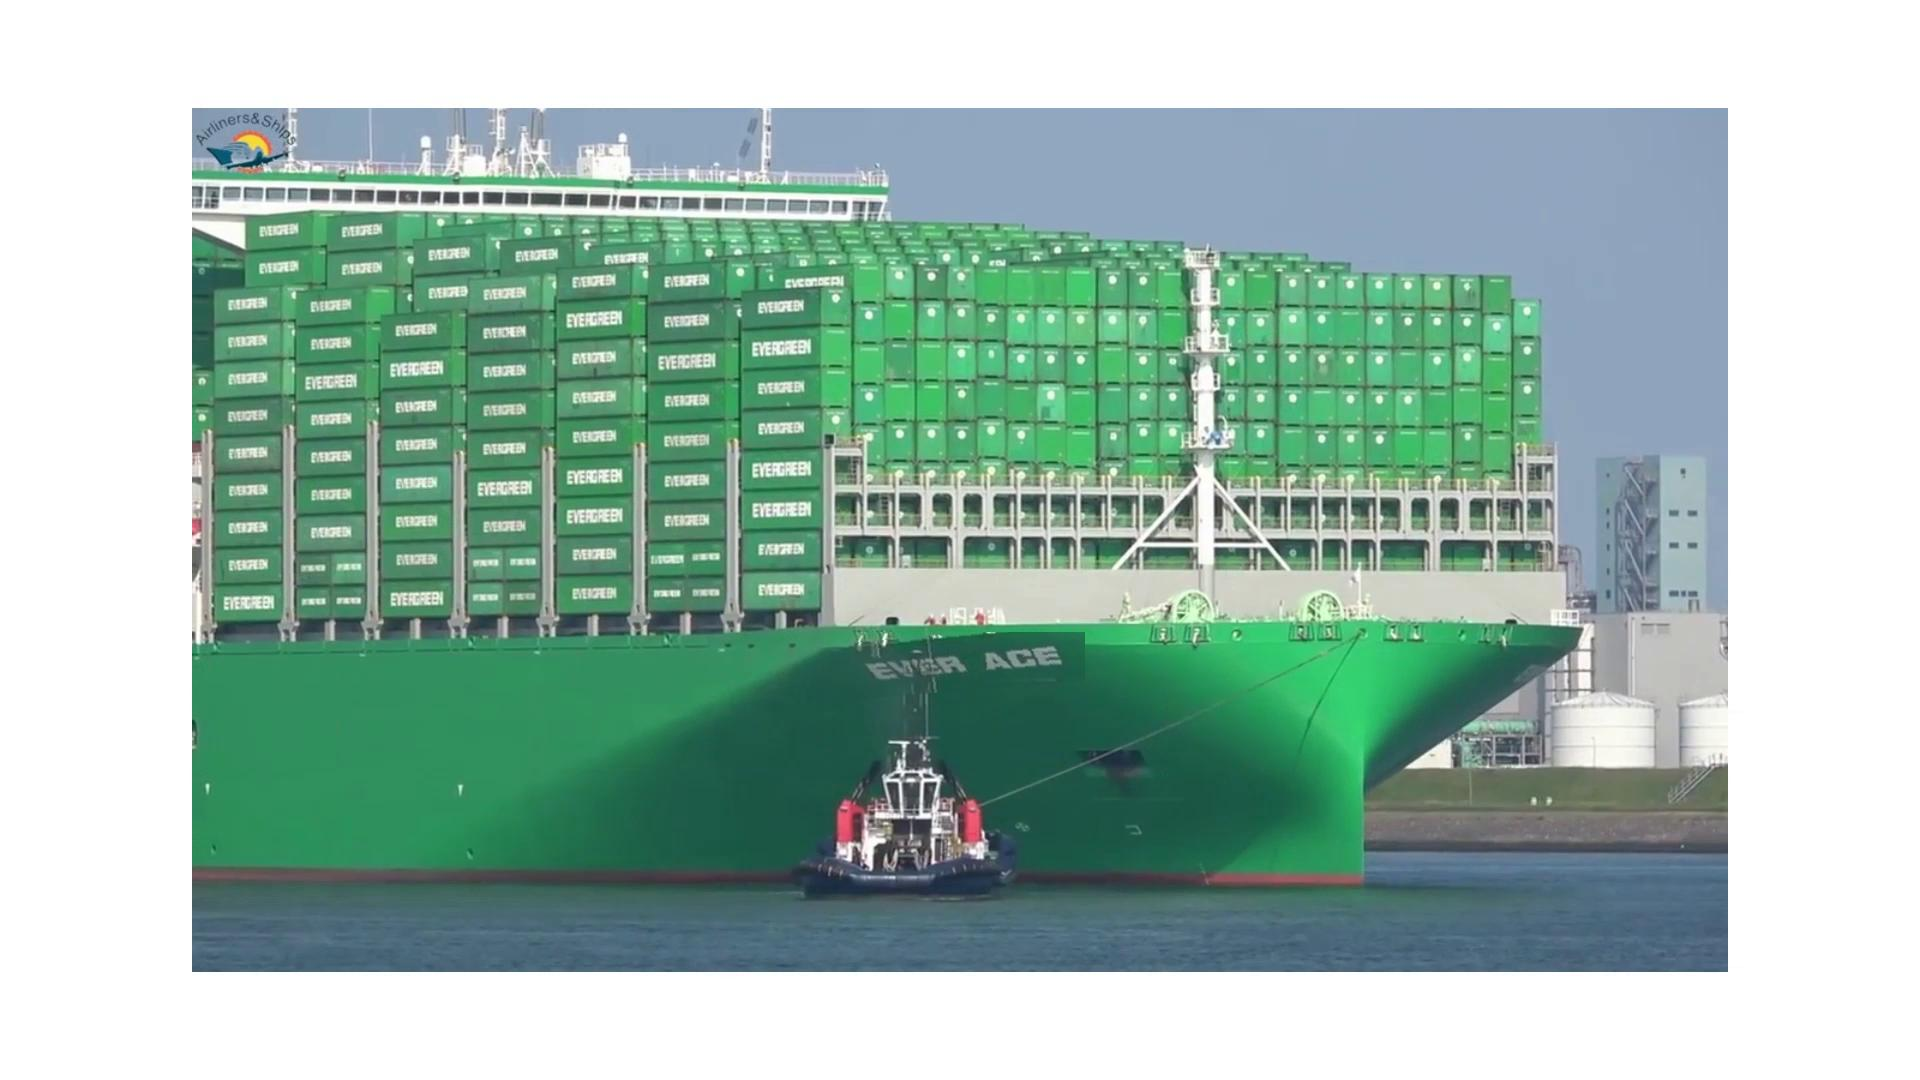OCR: (840, 632, 1085, 700)
